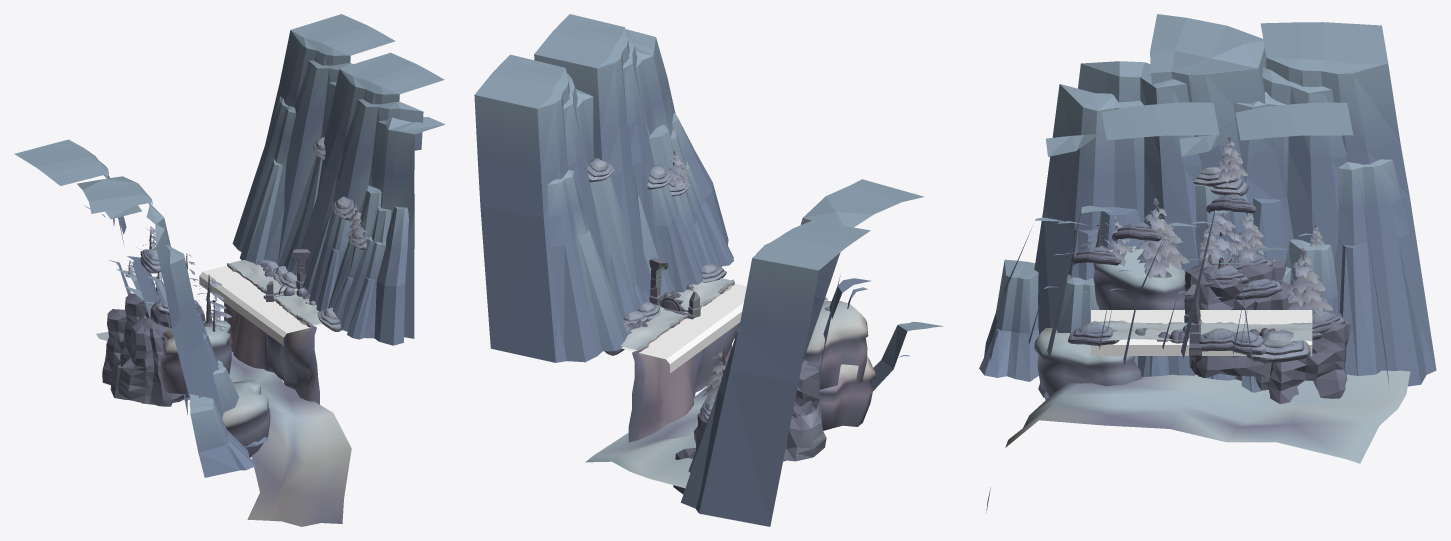
Rendered from Arctic_Narrows_Left_Straight_A_Jump_B.glb.
The picture shows the model from 3 angles, left to right: view 1: azimuth 30°, elevation 25°; view 2: azimuth 150°, elevation 25°; view 3: azimuth 270°, elevation 25°; orthographic projection. The views are drawn at different scales.
Parts seen in each view (by area): view 1: Arctic_Narrows_Left_Straight_A, Arctic_Narrows_Left_IceWall_A01 (2), Arctic_Narrows_Left_IceWall_A01 (3), Arctic_Narrows_Left_IceWall_A01_Right, Arctic_Narrows_Right_IceWall_A01 (1), Arctic_Narrows_Left_IceWall_A01_Left (×2), Arctic_Narrows_Right_IceWall_A01_Left, Arctic_Narrows_Right_IceWall_A02 (1), inv_fill, Arctic_Narrows_Big_Rock_A01_Top (×3), Arctic_Narrows_Left_IceWall_A01_Mid, Arctic_Narrows_Big_Rock_A01 (4) (+2 smaller); view 2: Arctic_Narrows_Left_IceWall_A01 (3), Arctic_Narrows_Right_IceWall_A02 (1), Arctic_Narrows_Left_Straight_A, Arctic_Narrows_Left_IceWall_A01 (2), Arctic_Narrows_Left_IceWall_A01_Left (×2), Arctic_Narrows_Left_IceWall_A01_Right (×2), Arctic_Narrows_Right_IceWall_A01 (1), inv_fill, Arctic_Narrows_Left_IceWall_A01_Mid, Arctic_Narrows_Right_IceWall_A02_Right, Arctic_Narrows_Big_Rock_A01 (4), Arctic_Narrows_Right_IceWall_A01_Left (+2 smaller); view 3: Arctic_Narrows_Right_IceWall_A01 (1), Arctic_Narrows_Left_Straight_A, Arctic_Narrows_Right_IceWall_A02 (1), Arctic_Narrows_Right_IceWall_A02_Right, Arctic_Narrows_Right_IceWall_A01_Left, Arctic_Narrows_Left_IceWall_A01 (2), Arctic_Narrows_Left_IceWall_A01 (3), inv_fill, Arctic_Narrows_Big_Rock_A01_Top (×3), Arctic_Narrows_Big_Rock_A01_Mid, Arctic_Narrows_Right_IceWall_A01_Mid, Arctic_Narrows_Right_IceWall_A02_Mid (+5 smaller).
Boxes of the visible parts, x1,y1,x2,y2 form: Arctic_Narrows_Left_Straight_A: [96, 260, 351, 526]; Arctic_Narrows_Left_IceWall_A01 (2): [301, 52, 445, 338]; Arctic_Narrows_Left_IceWall_A01 (3): [265, 14, 395, 271]; Arctic_Narrows_Left_IceWall_A01_Right: [328, 206, 408, 345]; Arctic_Narrows_Right_IceWall_A01 (1): [77, 176, 223, 418]; Arctic_Narrows_Left_IceWall_A01_Left (×2): [232, 96, 332, 294]; Arctic_Narrows_Right_IceWall_A01_Left: [189, 360, 268, 477]; Arctic_Narrows_Right_IceWall_A02 (1): [14, 139, 189, 414]; inv_fill: [199, 266, 322, 345]; Arctic_Narrows_Big_Rock_A01_Top (×3): [107, 293, 205, 351]; Arctic_Narrows_Left_IceWall_A01_Mid: [309, 212, 361, 311]; Arctic_Narrows_Big_Rock_A01 (4): [118, 368, 188, 406]; Arctic_Narrows_Left_IceWall_A01 (3): [474, 54, 645, 362]; Arctic_Narrows_Right_IceWall_A02 (1): [695, 220, 870, 526]; Arctic_Narrows_Left_Straight_A: [585, 278, 875, 488]; Arctic_Narrows_Left_IceWall_A01 (2): [534, 14, 687, 294]; Arctic_Narrows_Left_IceWall_A01_Left (×2): [547, 170, 673, 362]; Arctic_Narrows_Left_IceWall_A01_Right (×2): [610, 113, 733, 319]; Arctic_Narrows_Right_IceWall_A01 (1): [800, 179, 924, 374]; inv_fill: [621, 283, 746, 373]; Arctic_Narrows_Left_IceWall_A01_Mid: [651, 184, 702, 292]; Arctic_Narrows_Right_IceWall_A02_Right: [681, 327, 739, 508]; Arctic_Narrows_Big_Rock_A01 (4): [783, 422, 826, 461]; Arctic_Narrows_Right_IceWall_A01_Left: [871, 321, 942, 390]; Arctic_Narrows_Right_IceWall_A01 (1): [1034, 14, 1293, 366]; Arctic_Narrows_Left_Straight_A: [986, 245, 1410, 512]; Arctic_Narrows_Right_IceWall_A02 (1): [1233, 22, 1436, 374]; Arctic_Narrows_Right_IceWall_A02_Right: [1334, 159, 1426, 386]; Arctic_Narrows_Right_IceWall_A01_Left: [979, 259, 1099, 398]; Arctic_Narrows_Left_IceWall_A01 (2): [1046, 102, 1255, 386]; Arctic_Narrows_Left_IceWall_A01 (3): [1179, 102, 1389, 386]; inv_fill: [1091, 310, 1312, 355]; Arctic_Narrows_Big_Rock_A01_Top (×3): [1184, 257, 1351, 353]; Arctic_Narrows_Big_Rock_A01_Mid: [1268, 348, 1347, 403]; Arctic_Narrows_Right_IceWall_A01_Mid: [1138, 184, 1256, 379]; Arctic_Narrows_Right_IceWall_A02_Mid: [1282, 239, 1337, 314].
Size of what is drawn, in the model's own units: 24.55 by 25.9 by 22.33.
